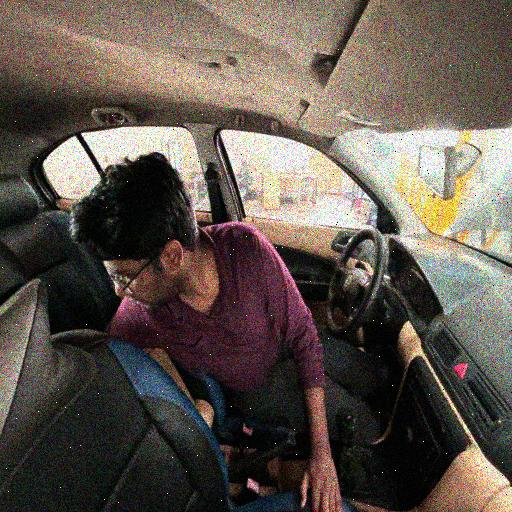Reaching_behind: (65, 147, 360, 440)
